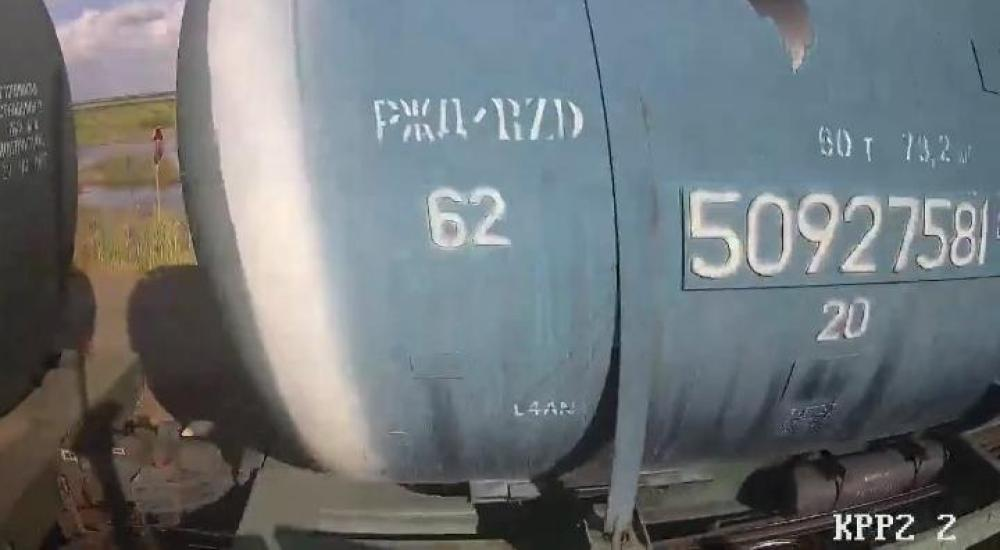Wagon-number: (683, 186, 993, 282)
